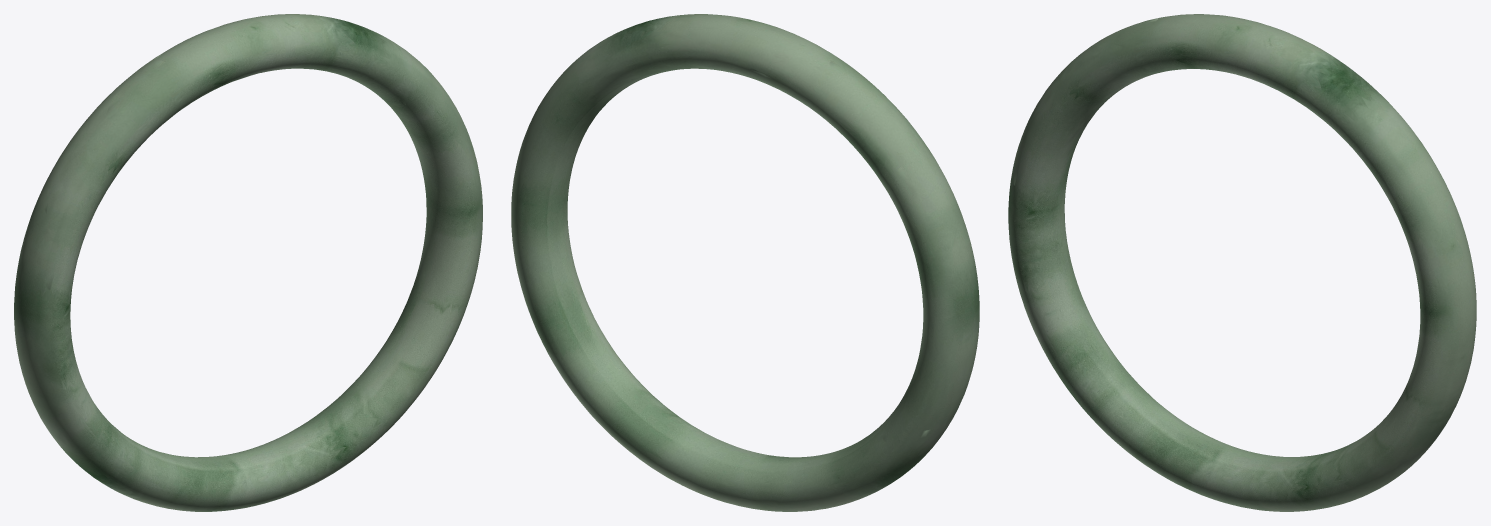
The model's file is ring_jade.glb.
3 renders of one model, left to right at view 1: azimuth 30°, elevation 25°; view 2: azimuth 150°, elevation 25°; view 3: azimuth 330°, elevation 25°, orthographic.
Parts seen in each view (by area): view 1: Mesh_0; view 2: Mesh_0; view 3: Mesh_0.
Boxes of the visible parts, left/top/right/bottom form: Mesh_0: left=14, top=14, right=482, bottom=511; Mesh_0: left=511, top=14, right=979, bottom=511; Mesh_0: left=1008, top=14, right=1476, bottom=511.
Bounding box in the file's own units: 2.22 × 2.22 × 0.2791.
1 material, 1 textured.
